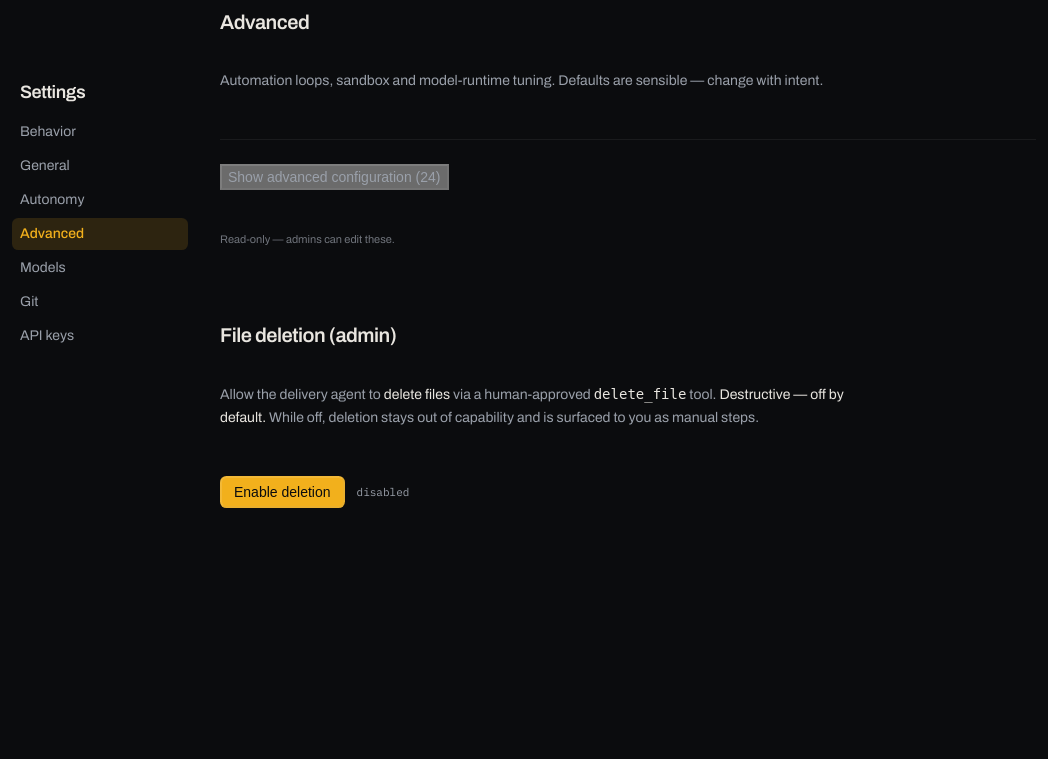
Scenario: SettingsPage › uses a dropdown (not a text box) for the enumerable install-network setting
Click the button "Show advanced configuration (24)" at x=334, y=177, box [220, 164, 448, 190]
(page scrolled)
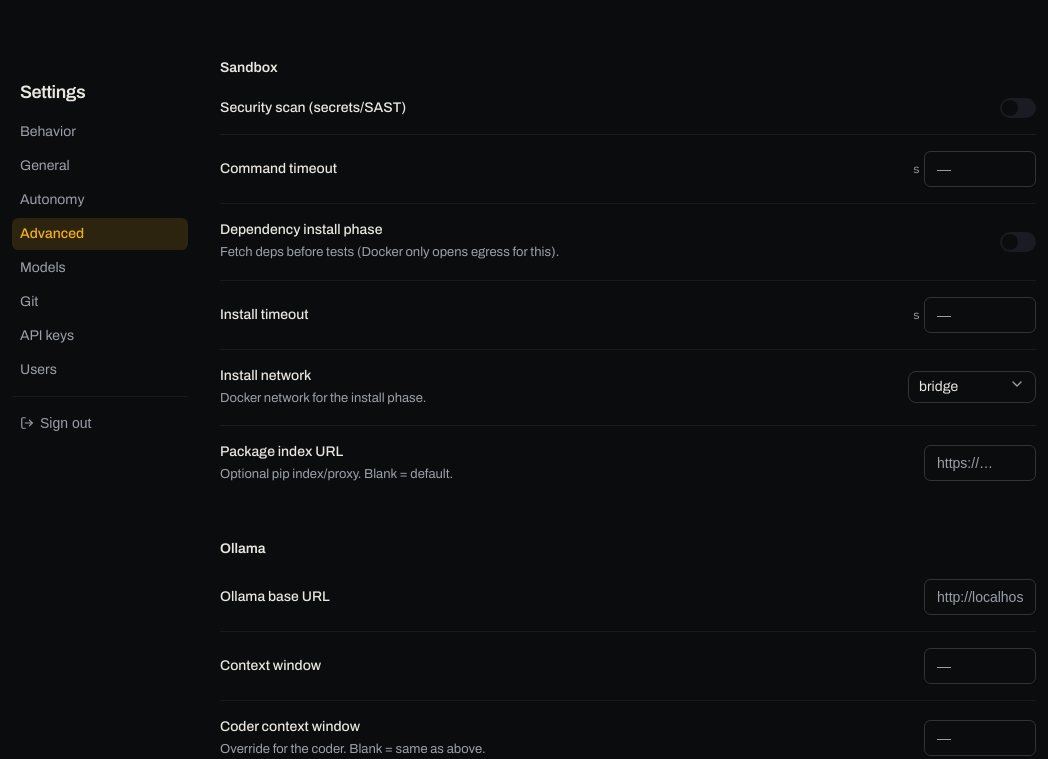
expect the text "Install network" is shown: met, box [220, 366, 312, 386]
